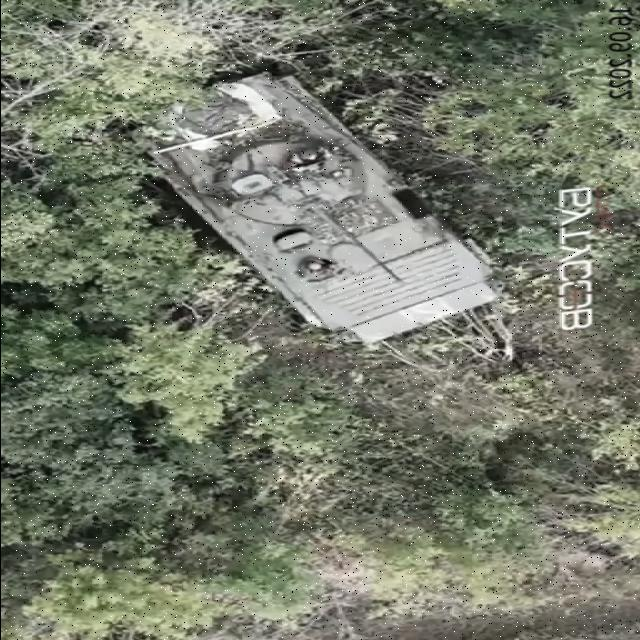APC-IFV: (114, 64, 514, 342)
